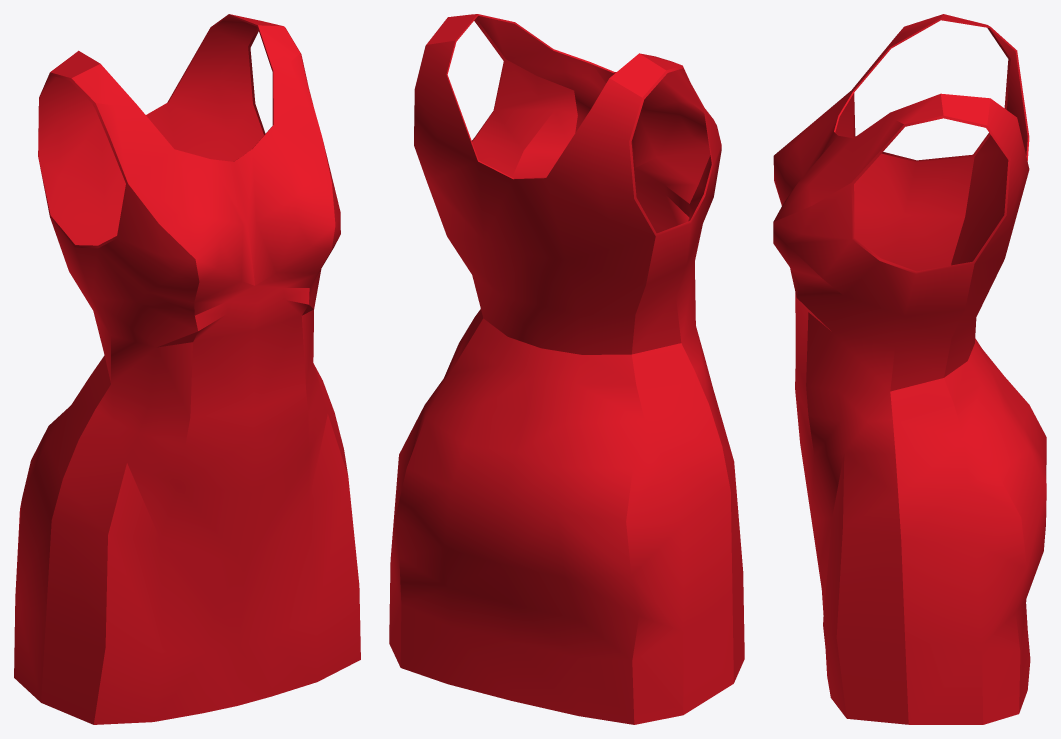
Rendered from Dress_01.fbx.
The picture shows the model from 3 angles, left to right: view 1: azimuth 30°, elevation 25°; view 2: azimuth 150°, elevation 25°; view 3: azimuth 270°, elevation 25°; orthographic projection. The views are drawn at different scales.
Visible parts, largest first — view 1: Dress_01; view 2: Dress_01; view 3: Dress_01.
Part boxes in pixels (x1=…): Dress_01: x1=14, y1=14, x2=360, y2=724; Dress_01: x1=389, y1=14, x2=744, y2=724; Dress_01: x1=773, y1=14, x2=1046, y2=724.
Bounding box in the file's own units: 38.5 × 73.6 × 30.17.
